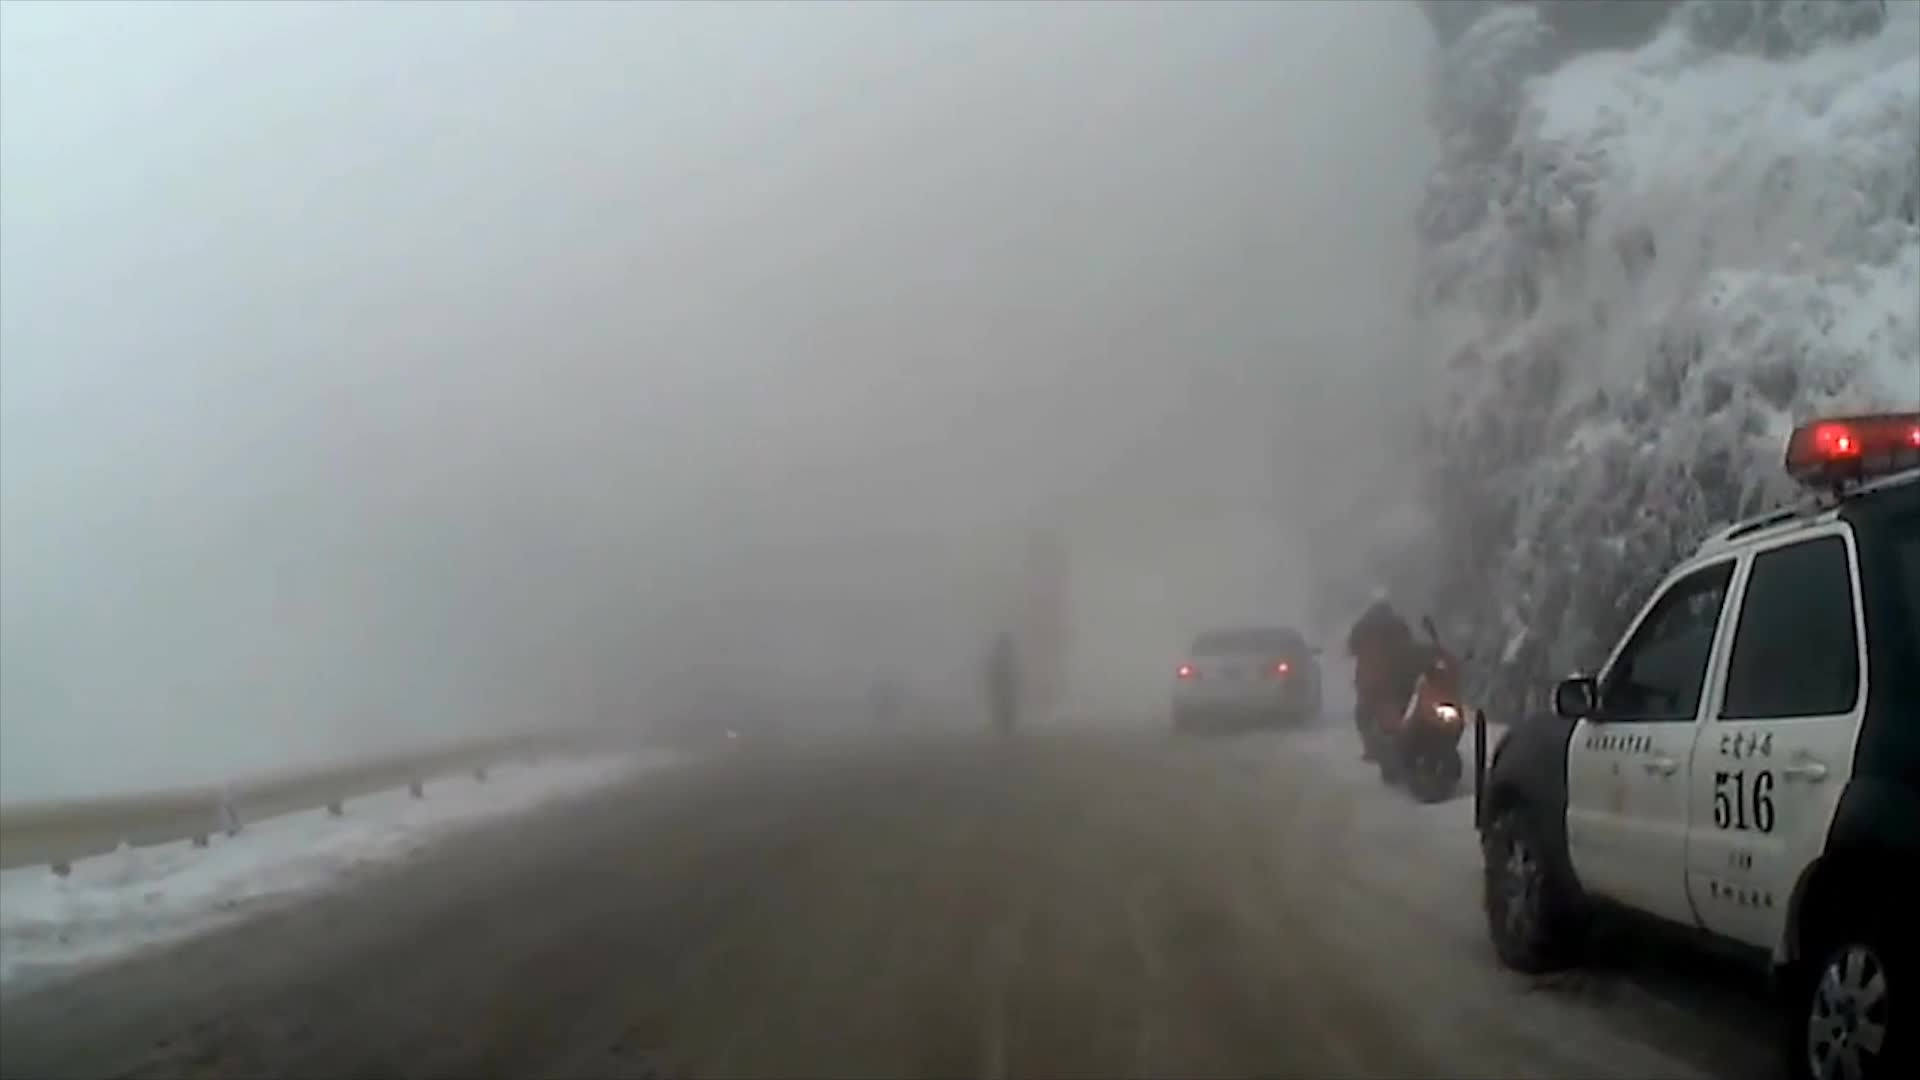pedestrian: (1340, 586, 1418, 760), (987, 629, 1023, 747)
vehicle: (1469, 409, 1916, 1080), (1171, 624, 1326, 740)
